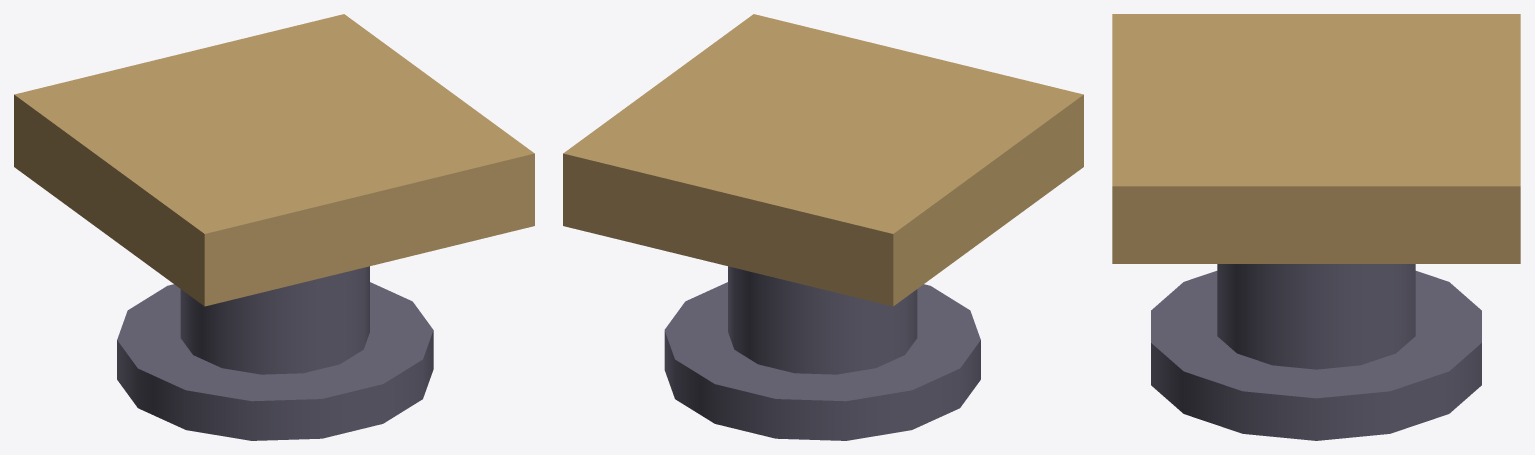
The model's file is table_05.fbx.
3 views of the same model, side by side, from view 1: azimuth 30°, elevation 25°; view 2: azimuth 150°, elevation 25°; view 3: azimuth 270°, elevation 25° (orthographic). The views are drawn at different scales.
Parts seen in each view (by area): view 1: table_05; view 2: table_05; view 3: table_05.
Part boxes in pixels (x1,y1,x2,y2): table_05: (14, 14, 534, 440); table_05: (563, 14, 1083, 440); table_05: (1112, 14, 1520, 440).
Bounding box in the file's own units: 84 × 61 × 84.
